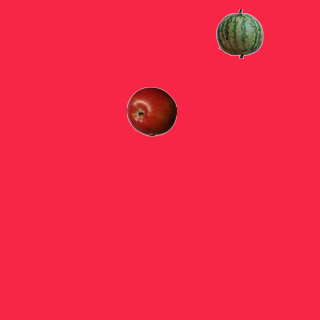Apple Braeburn: (126, 86, 176, 136)
Watermelon: (214, 8, 264, 58)
